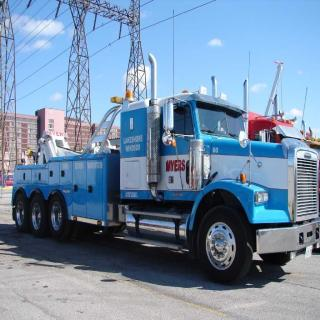Towing_truck: (9, 52, 318, 285)
